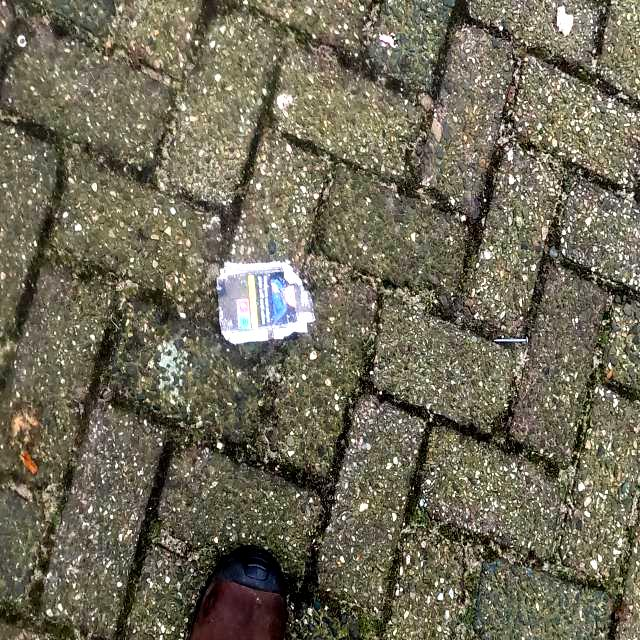Paper: (214, 258, 316, 346)
